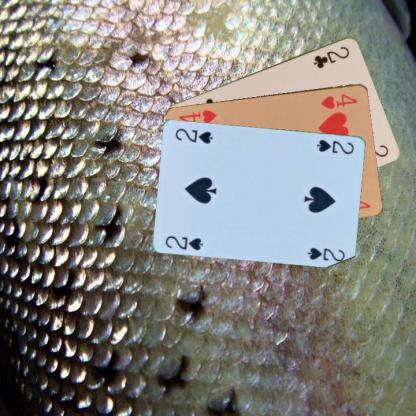2c: (311, 43, 351, 70)
2s: (314, 136, 356, 155), (162, 233, 204, 251)
4h: (318, 91, 359, 110)
